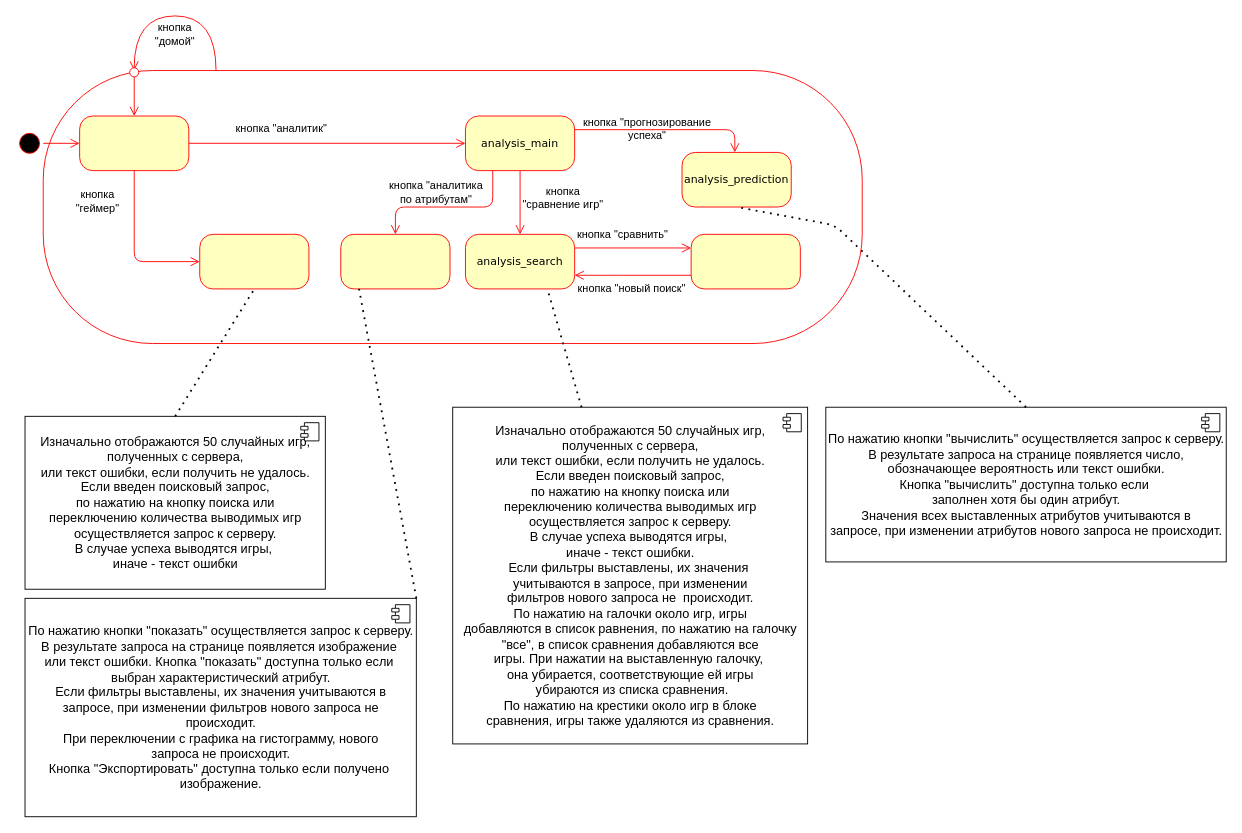
This 1242x833 diagram has some shape labels left out. The box of each missing label's shape, as (x1, y1, x2, y2) in pixels:
analysis_compare: (690, 233, 800, 289)
analysis_visual: (340, 233, 450, 289)
gamer_search: (199, 233, 309, 289)
mainpage: (79, 115, 189, 171)
